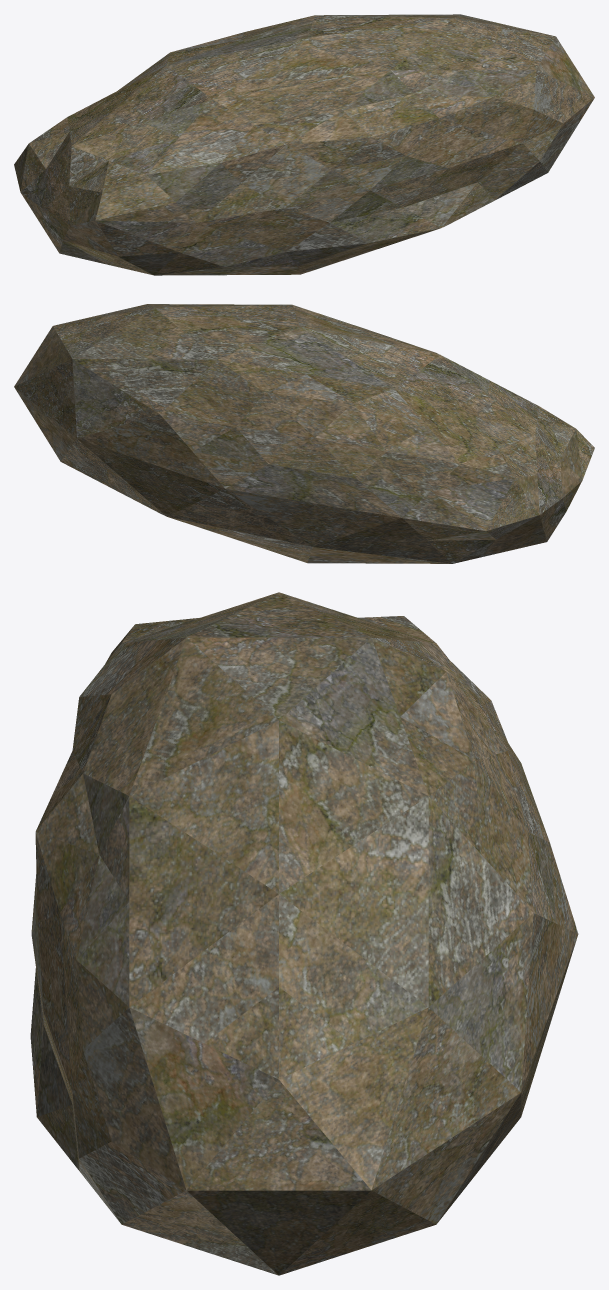
The model's file is rock5.obj.
3 renders of one model, top to bottom at view 1: azimuth 30°, elevation 25°; view 2: azimuth 150°, elevation 25°; view 3: azimuth 270°, elevation 25°, orthographic. The views are drawn at different scales.
Visible parts, largest first — view 1: ICO球; view 2: ICO球; view 3: ICO球.
Part boxes in pixels (x1=…): ICO球: x1=14, y1=14, x2=594, y2=275; ICO球: x1=14, y1=304, x2=594, y2=563; ICO球: x1=30, y1=592, x2=578, y2=1275.
Size of the model in its own units: 204 by 79.12 by 91.97.
